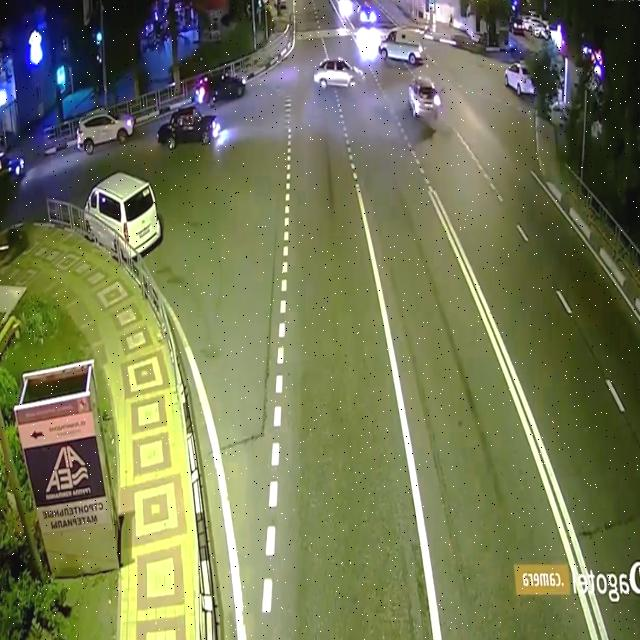accident: (308, 49, 444, 134)
